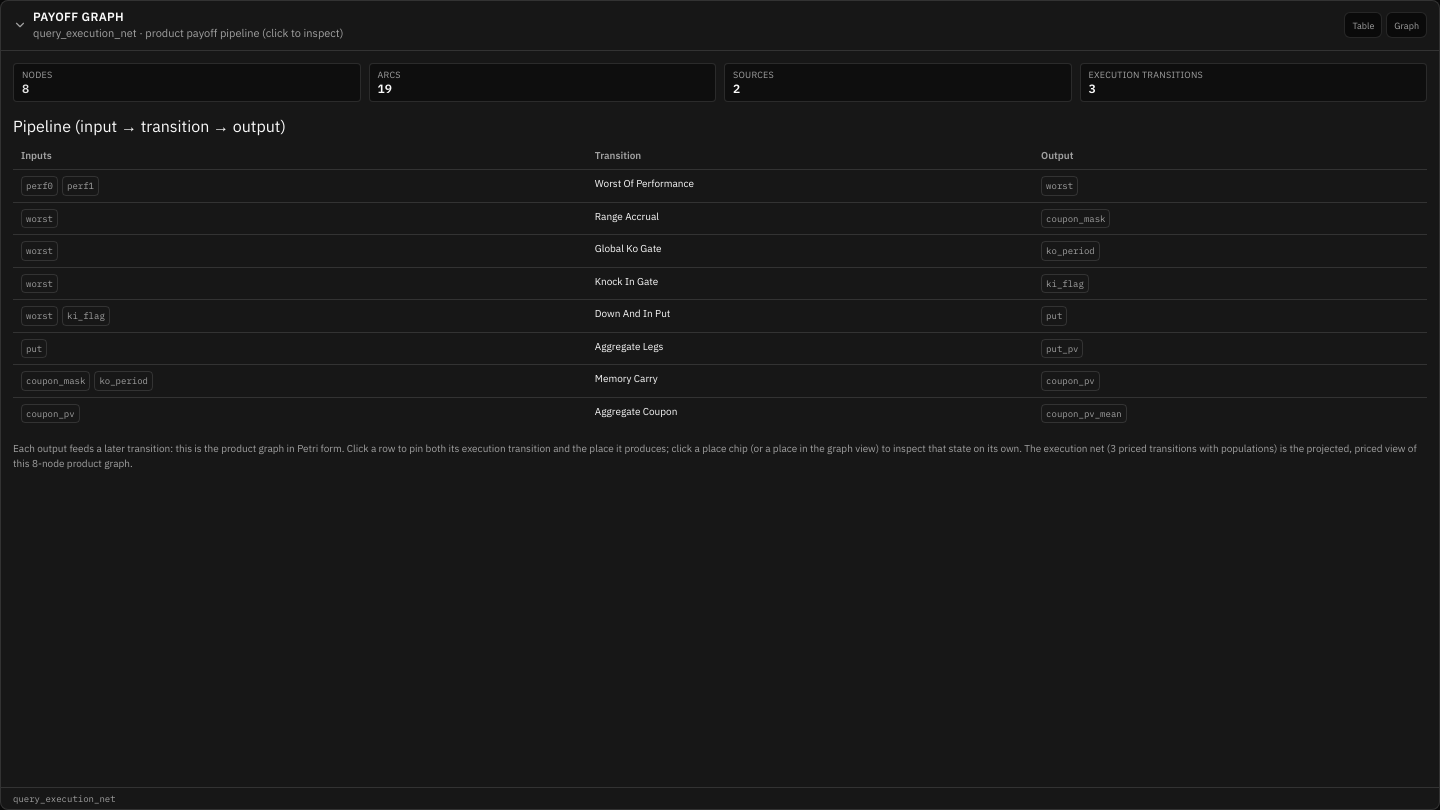
Test: riga payoff graph tile › switches to the graph view
What coordinates should you click on to do the following:
click the button with test id "payoff-graph-view-graph"
I would click on:
 (1407, 25)
Its box is [1386,12,1427,38].
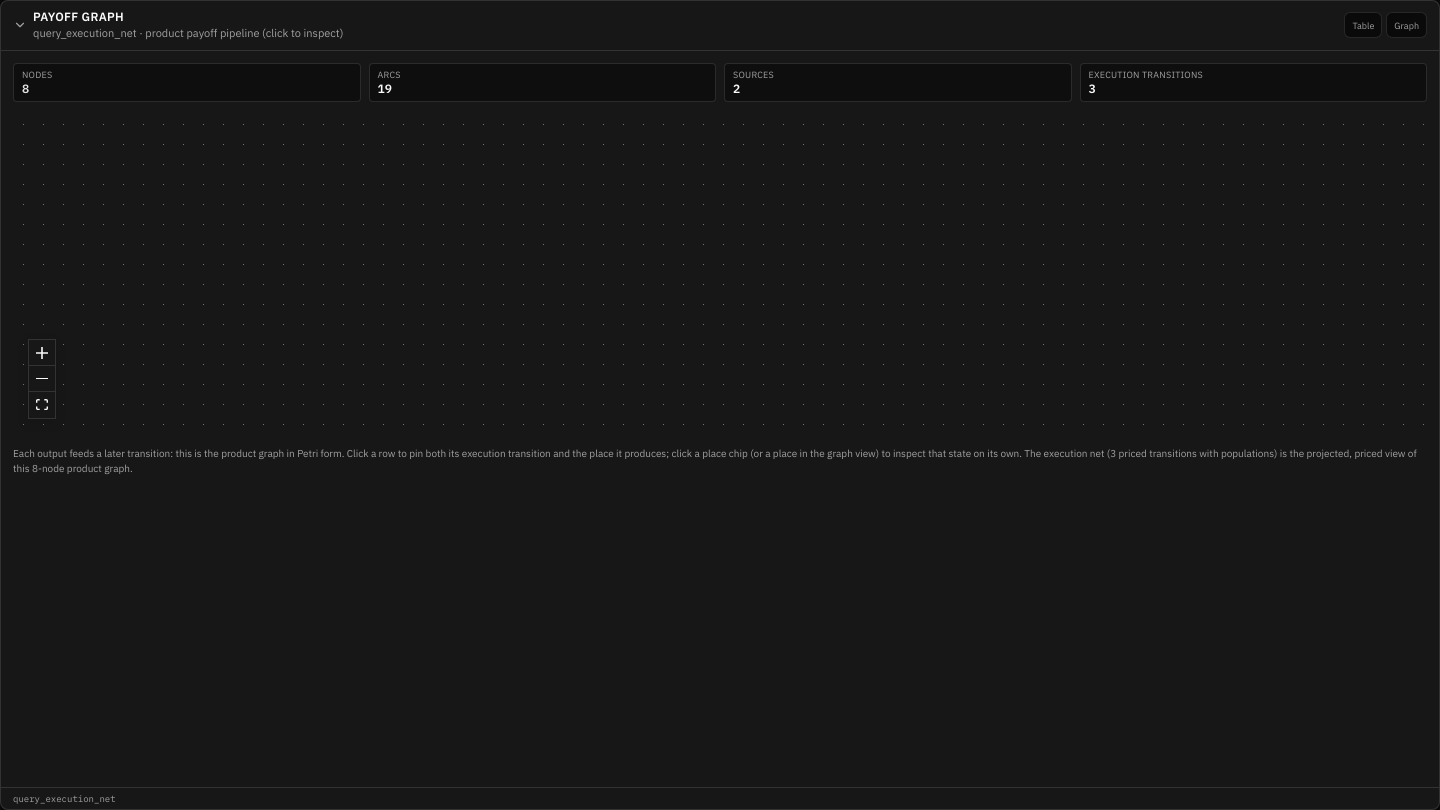
Expected: the element with test id "payoff-graph-canvas" is shown, [13,114,1427,434]
Back to the table.
What coordinates should you click on to do the following:
click the button "Table"
I would click on:
 (1363, 25)
Its box is [1344,12,1382,38].
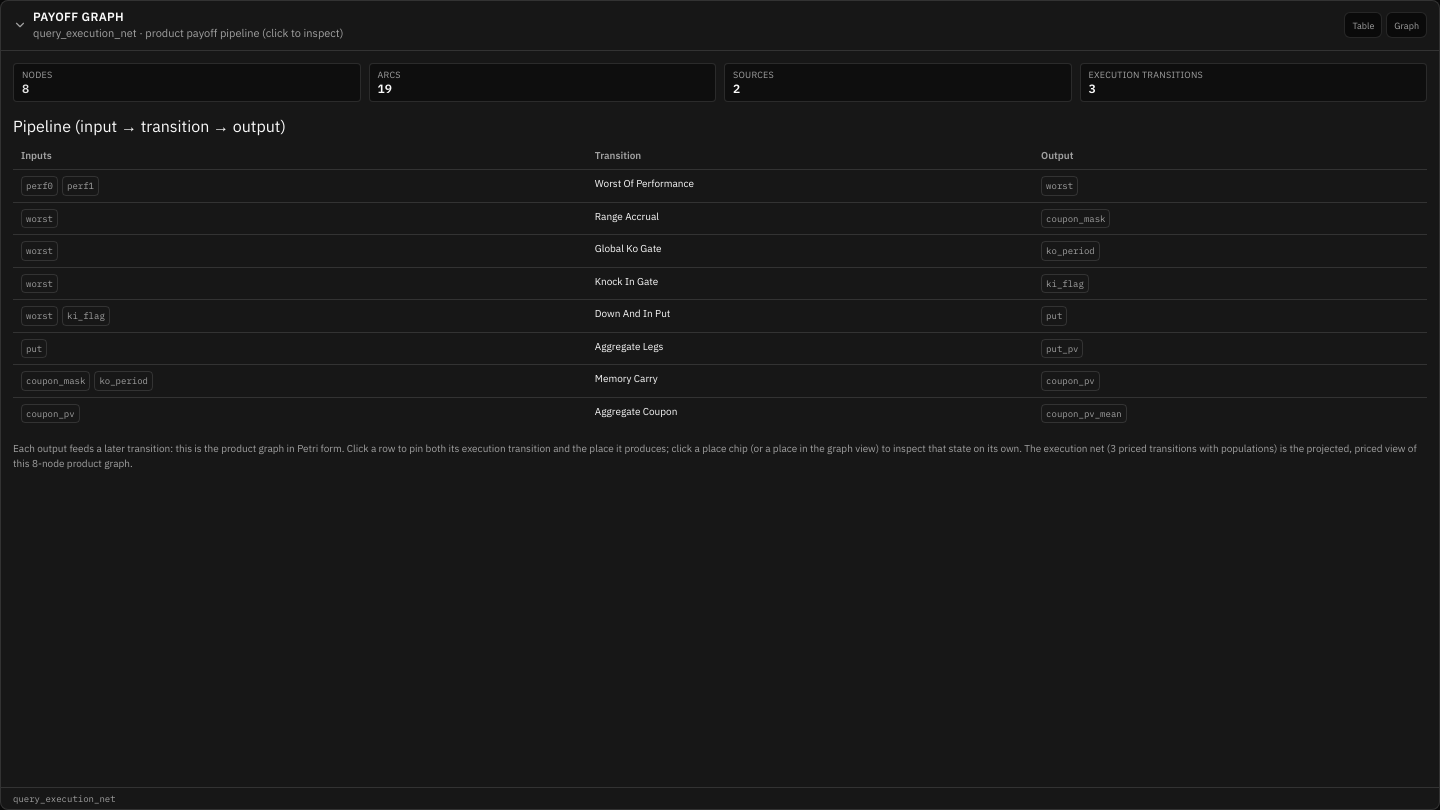
Expected: the text "Down And In Put" is shown, [587,300,1033,332]
